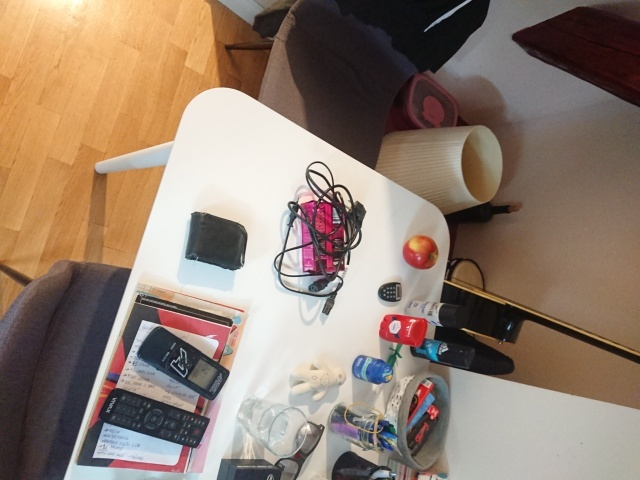Barcaffe Classic Original 225g: (298, 199, 348, 275)
